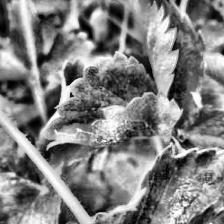Powdery Mildew Leaf: (41, 143, 223, 224), (41, 51, 183, 150), (128, 0, 206, 112), (173, 103, 224, 223)
